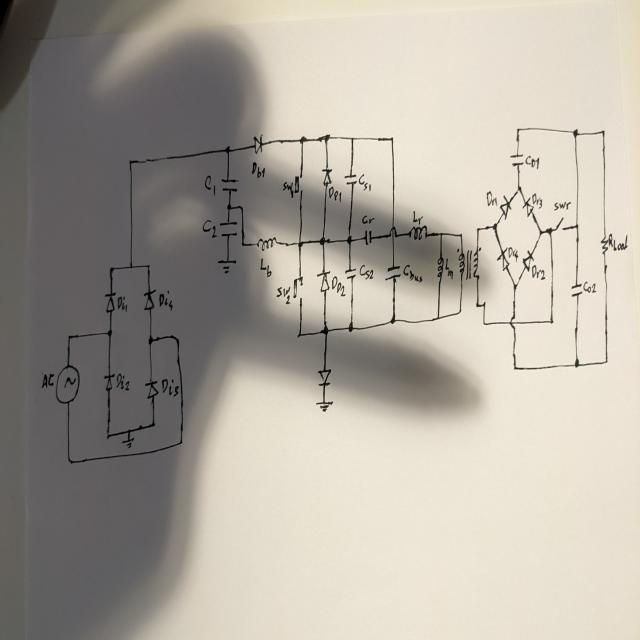capacitor: (219, 218, 237, 239), (220, 175, 238, 194), (385, 262, 401, 282), (362, 227, 373, 248), (510, 152, 524, 168), (570, 282, 583, 298), (344, 266, 357, 280), (344, 173, 358, 185)
crossover: (387, 224, 398, 242), (508, 312, 517, 330)
diode: (495, 247, 512, 269), (316, 366, 332, 389), (316, 270, 331, 293), (499, 194, 512, 220), (142, 288, 157, 310), (320, 164, 333, 189), (522, 194, 536, 217), (145, 378, 159, 401), (102, 370, 115, 394), (104, 290, 116, 314), (252, 133, 264, 155), (523, 250, 533, 270)
ground: (216, 257, 237, 275), (315, 396, 335, 413), (121, 436, 135, 449)
inductor: (409, 223, 427, 241), (256, 236, 278, 250), (437, 254, 445, 279)
junction: (318, 234, 326, 247), (321, 324, 329, 336), (546, 224, 553, 237), (347, 320, 354, 332), (537, 226, 544, 238), (491, 221, 498, 232), (574, 357, 580, 369), (390, 314, 396, 326), (225, 143, 231, 155), (512, 280, 518, 292), (346, 234, 352, 245), (299, 134, 305, 145), (572, 127, 578, 138), (127, 156, 133, 167), (150, 418, 156, 429), (147, 335, 153, 345), (106, 328, 112, 338), (512, 362, 518, 372), (323, 132, 329, 142), (108, 264, 114, 274), (548, 316, 554, 326), (66, 454, 72, 464), (296, 330, 302, 340), (174, 334, 180, 344), (66, 332, 72, 342), (297, 238, 303, 248), (105, 431, 111, 441), (603, 356, 609, 365), (226, 202, 232, 211), (178, 437, 183, 447), (516, 184, 521, 194), (600, 128, 606, 136), (240, 240, 246, 248), (574, 221, 579, 230), (239, 203, 244, 212), (389, 134, 394, 142), (475, 225, 480, 233), (458, 231, 463, 239), (128, 262, 133, 270), (438, 230, 443, 238), (516, 125, 520, 134), (457, 307, 462, 314), (475, 300, 479, 308), (482, 319, 486, 327), (350, 134, 354, 142), (482, 300, 486, 308), (146, 262, 150, 270), (127, 427, 131, 435), (436, 314, 440, 320)
resistor: (599, 231, 609, 257)
source: (55, 362, 81, 404)
switch: (292, 273, 303, 301), (294, 172, 304, 198), (556, 215, 566, 232)
text: (608, 232, 628, 251), (160, 377, 178, 398), (276, 282, 293, 304), (201, 218, 218, 240), (403, 264, 422, 283), (158, 289, 174, 310), (330, 275, 345, 297), (259, 255, 272, 278), (40, 370, 54, 391), (357, 172, 371, 193), (529, 263, 545, 281), (204, 173, 216, 196), (358, 263, 374, 280), (524, 153, 540, 170), (327, 185, 342, 203), (115, 372, 130, 390), (250, 161, 265, 179), (528, 192, 542, 210), (444, 254, 453, 280), (486, 189, 498, 208), (283, 176, 293, 198), (553, 199, 571, 211), (507, 245, 519, 262), (116, 294, 127, 312), (582, 280, 596, 294), (412, 210, 423, 226), (362, 213, 375, 225)
transformer: (455, 247, 481, 279)
